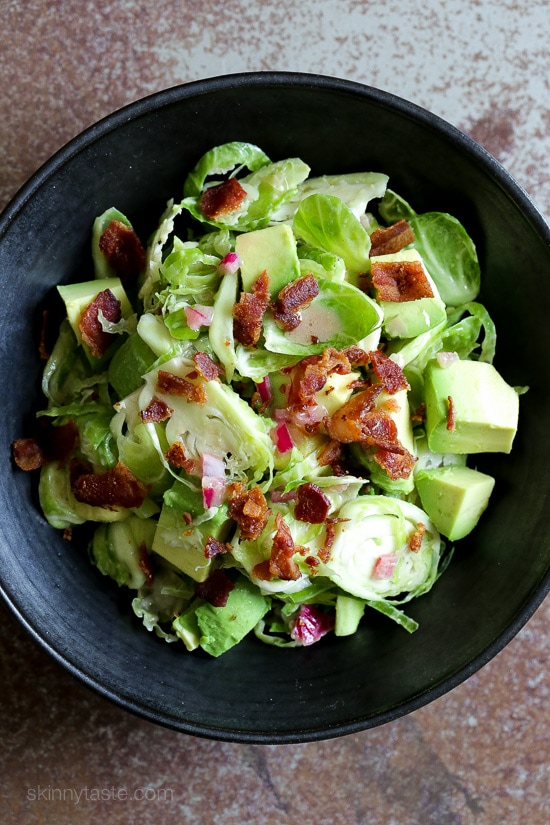bacon: (289, 350, 449, 460)
